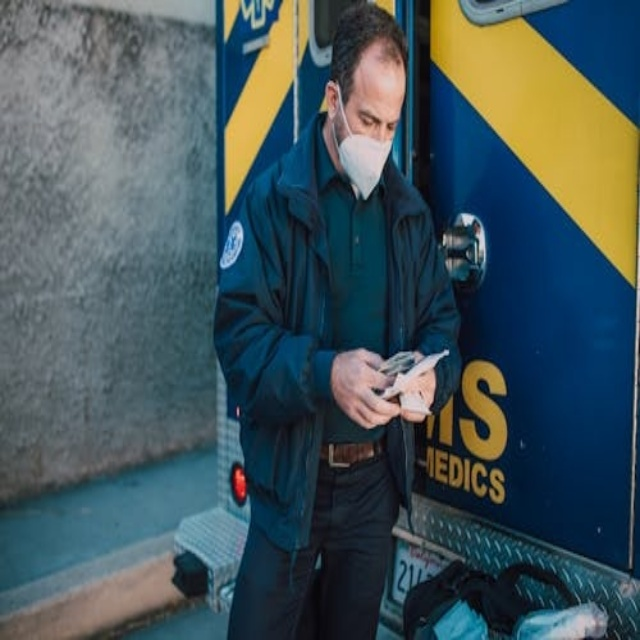Mascara: (333, 121, 397, 208)
Sin_gafas: (351, 96, 403, 136)
Sin_guantes: (330, 348, 401, 427), (392, 360, 437, 421)
